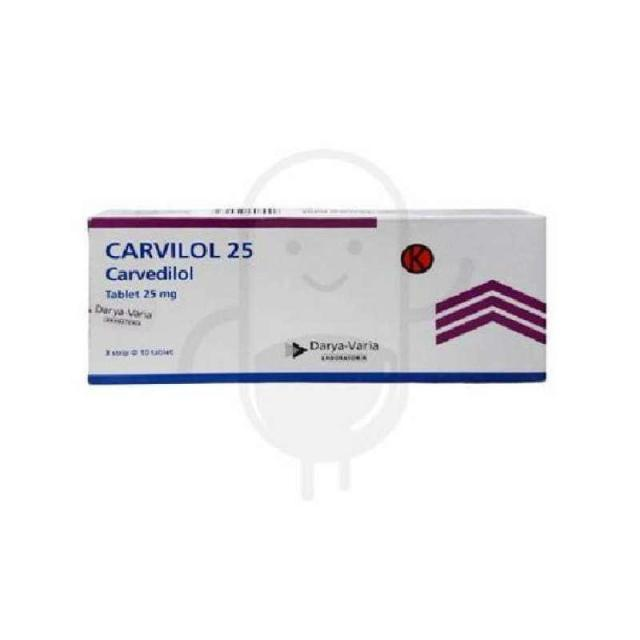drug-name: (105, 238, 254, 260)
